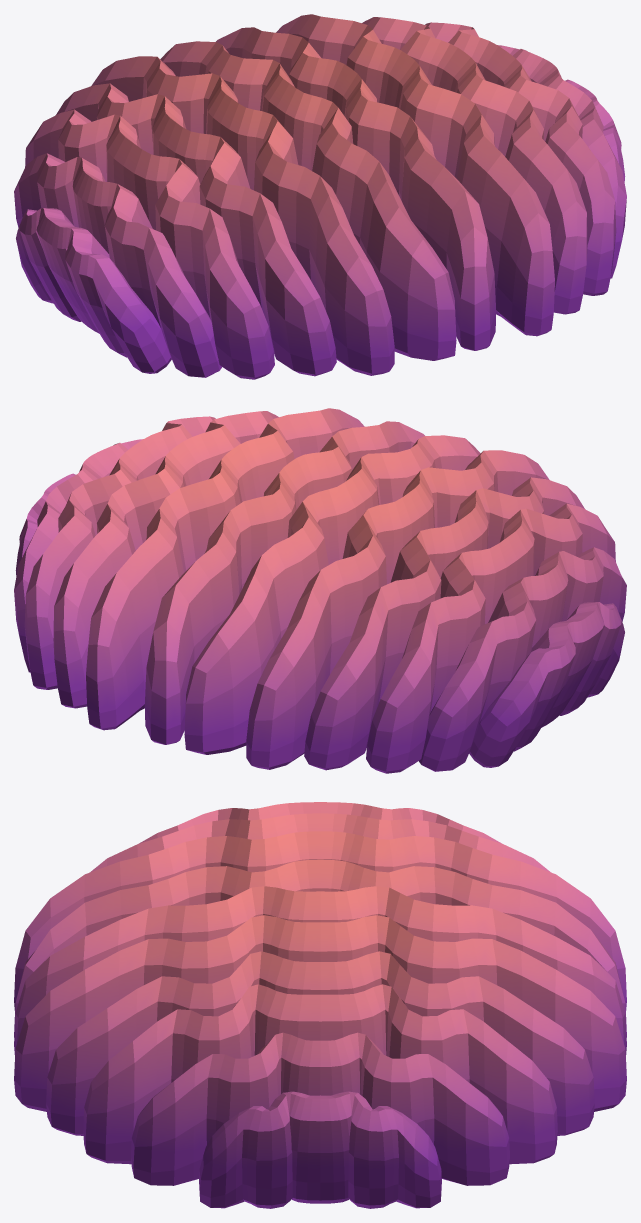
File: Object_Coral_10.fbx
3 views of the same model, one above another, from view 1: azimuth 30°, elevation 25°; view 2: azimuth 150°, elevation 25°; view 3: azimuth 270°, elevation 25° (orthographic). The views are drawn at different scales.
Visible parts, largest first — view 1: CoralTubes.004; view 2: CoralTubes.004; view 3: CoralTubes.004.
Boxes of the visible parts, x1,y1,x2,y2 form: CoralTubes.004: (14, 14, 626, 379); CoralTubes.004: (14, 408, 626, 773); CoralTubes.004: (14, 802, 626, 1208).
Bounding box in the file's own units: 1042 × 374 × 955.
